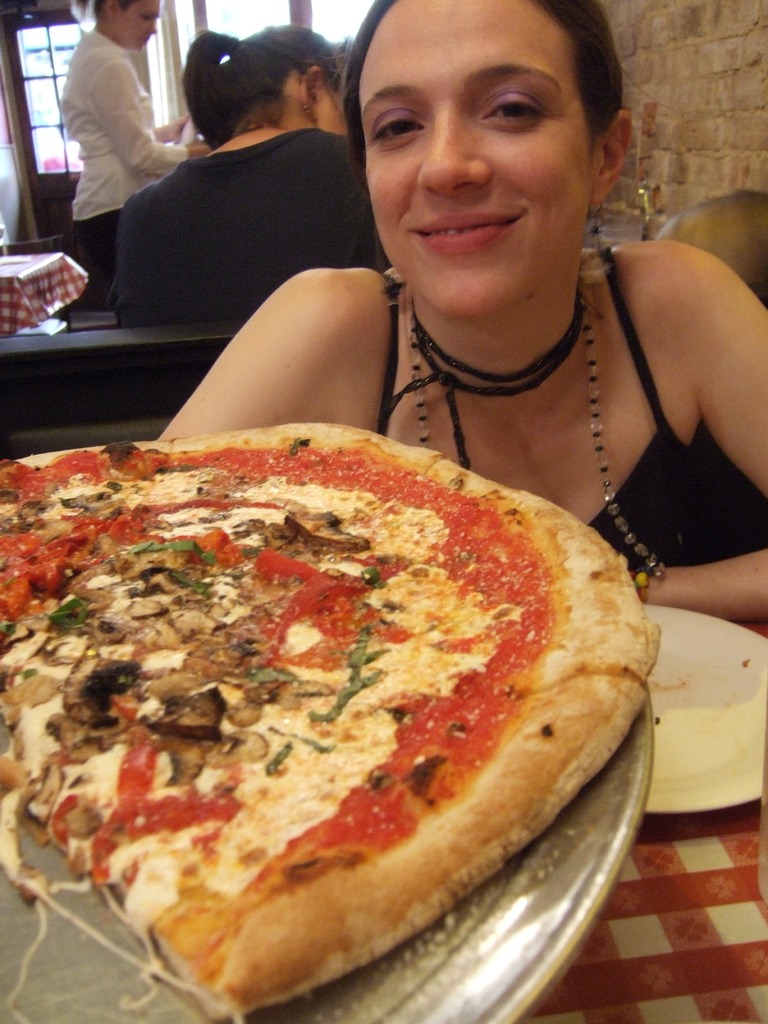Pizza: (0, 415, 657, 1014)
